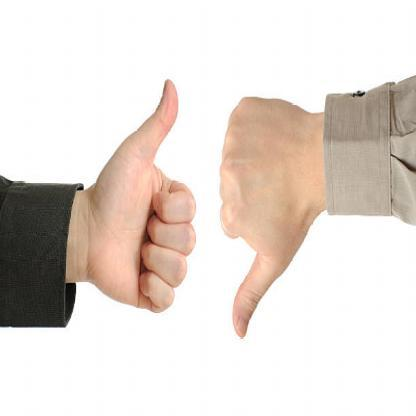thumb_down: (216, 90, 322, 340)
thumb_up: (92, 74, 196, 320)
